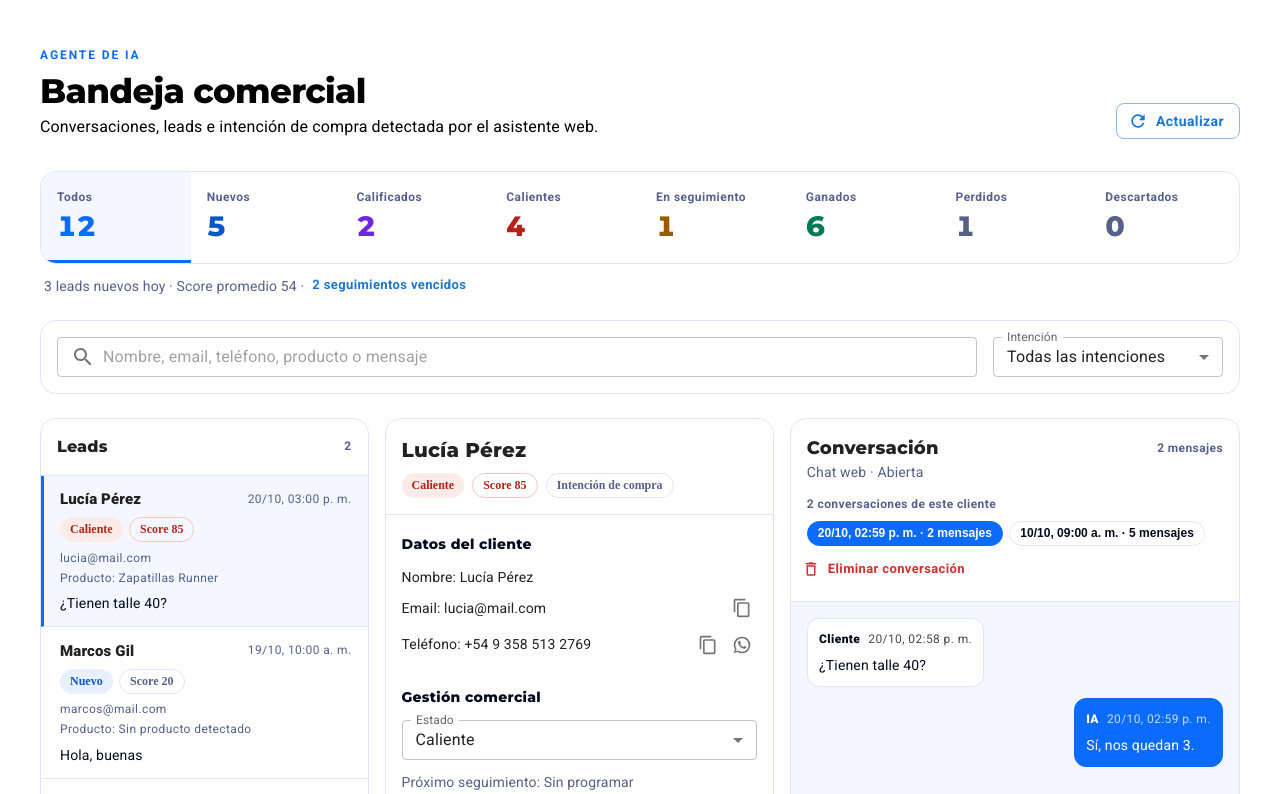
Test: Bandeja comercial · consulta › elegir otro lead abre su detalle
This screenshot has width=1280, height=794.
Expected: the text "Gestión comercial" is shown, [402, 687, 541, 708]
Step 1. Click the button "Marcos Gil" → (97, 651), box [41, 627, 368, 779]
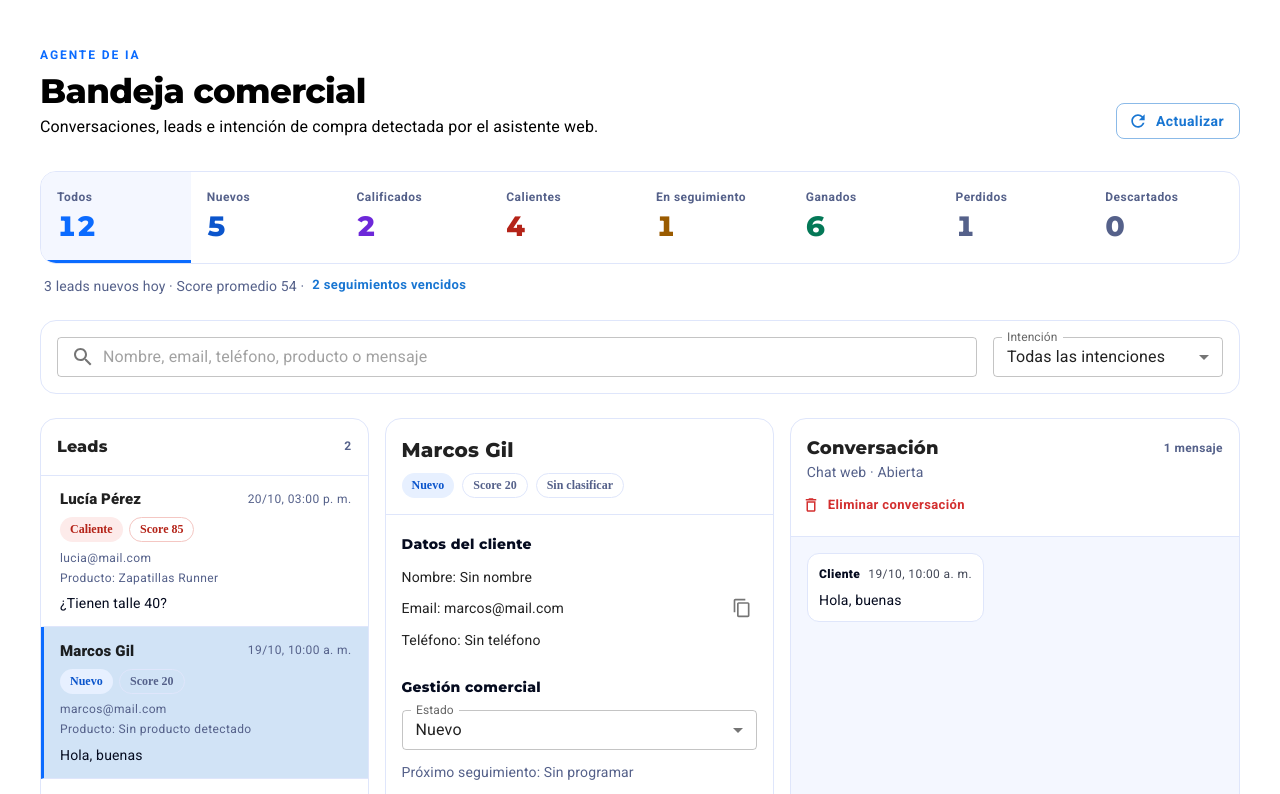
Expected: the text "Hola, buenas" below "Chat web" is shown, [819, 592, 902, 608]
